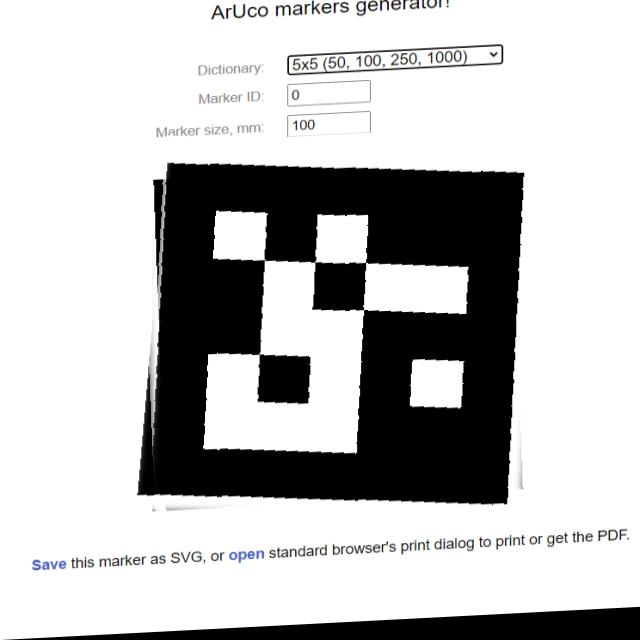aruco: (141, 131, 533, 538)
